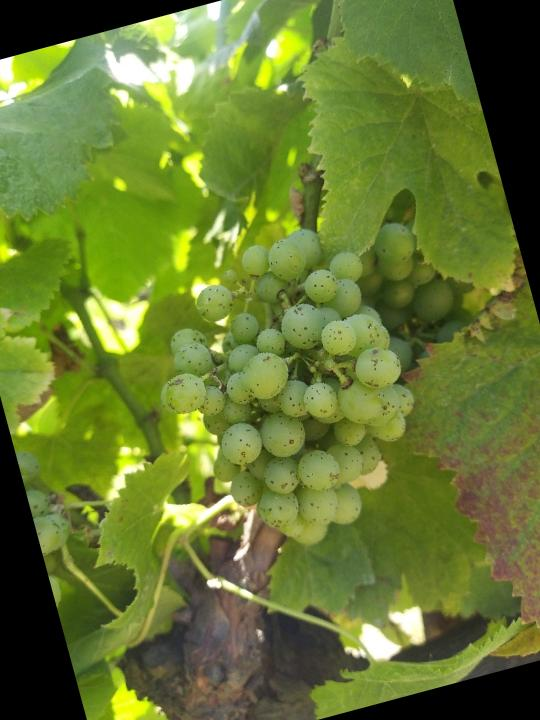grape: (126, 210, 447, 575)
